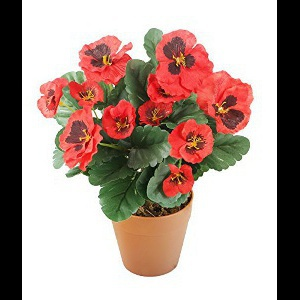flowerpot: (106, 178, 193, 276)
